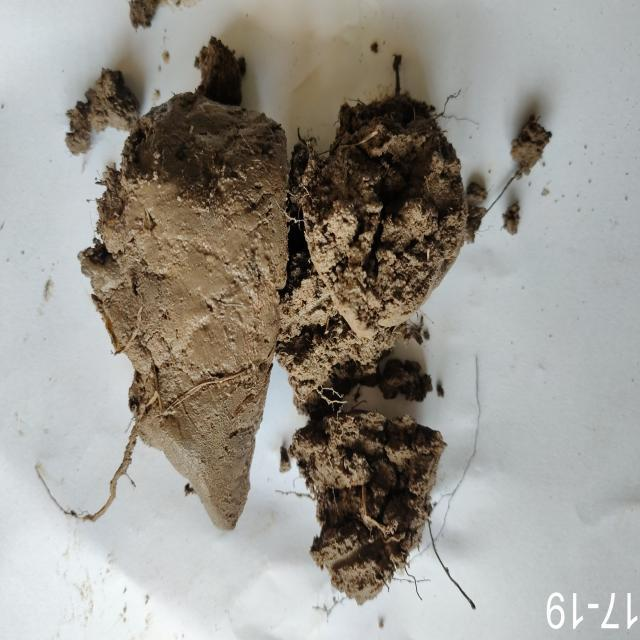soil: (164, 130, 398, 467)
